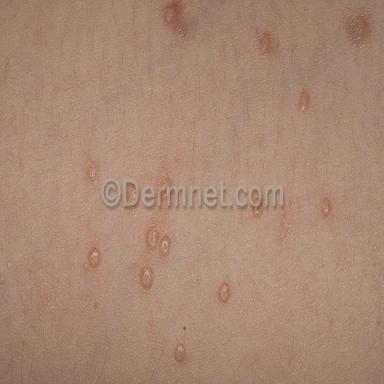Molluscum-Contagiosum: (139, 267, 154, 289), (259, 31, 273, 54), (298, 89, 311, 112), (146, 226, 158, 250), (88, 247, 101, 268), (218, 282, 230, 303), (160, 235, 171, 257), (174, 343, 186, 362), (163, 5, 175, 24), (321, 198, 331, 216)
